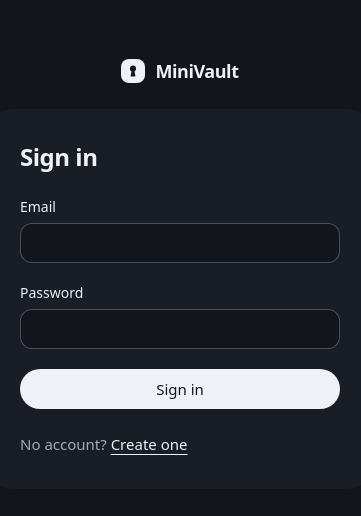
it: explains rate limiting
The width and height of the screenshot is (361, 516).
Type "user@example.test" into the field labelled "Email" at (180, 243), box [20, 223, 340, 263]
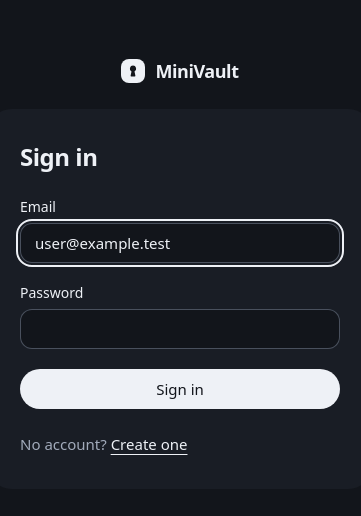
Type "correct horse battery" into the password field labelled "Password" at (180, 329), box [20, 309, 340, 349]
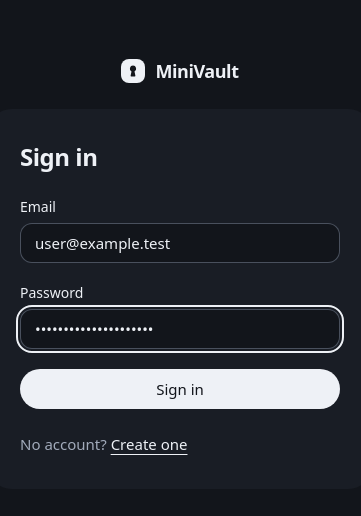
Click the button "Sign in" at (180, 389), box [20, 369, 340, 409]
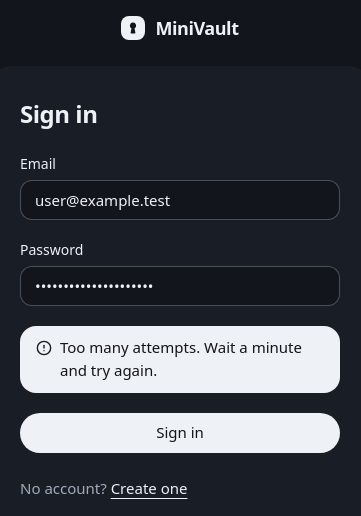
Now the message reads "Too many attempts. Wait a minute and try again.", box [60, 337, 302, 380]
